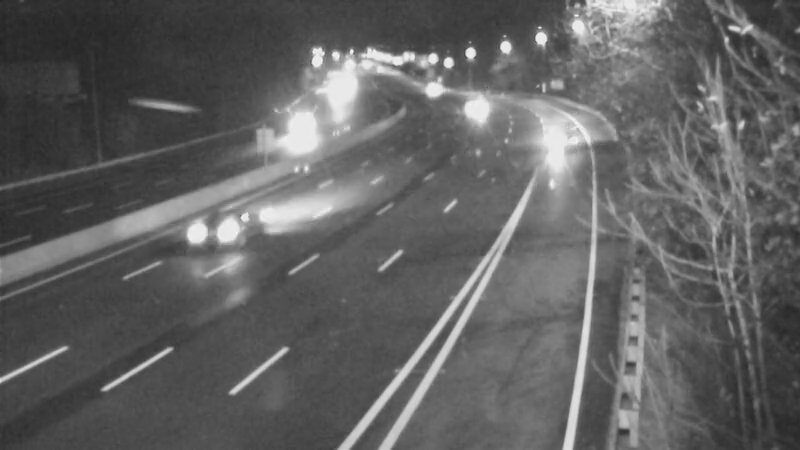vehicle: (176, 189, 256, 269), (397, 66, 447, 116), (446, 80, 496, 130), (539, 113, 589, 163), (279, 106, 329, 156), (312, 68, 362, 118)
